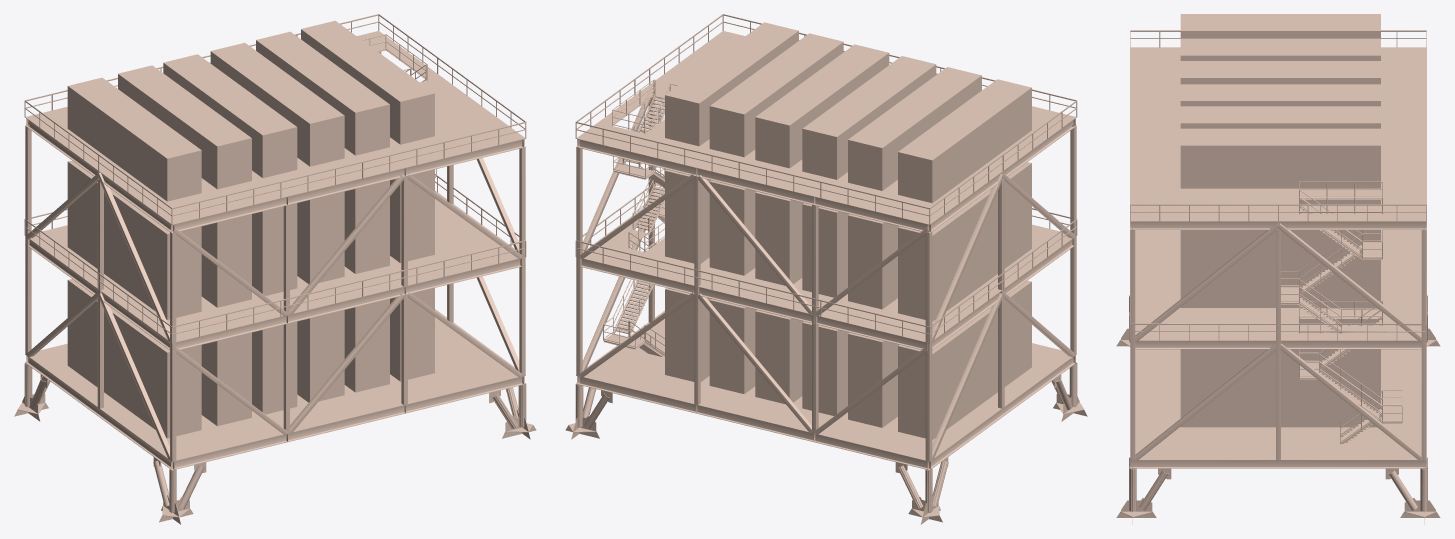
File: 04-Electrolyser-Standard-for-Instance.glb
3 views of the same model, side by side, from view 1: azimuth 30°, elevation 25°; view 2: azimuth 150°, elevation 25°; view 3: azimuth 270°, elevation 25° (orthographic).
Visible parts, largest first — view 1: ACPPSTRUCTUREBEAM.008; view 2: ACPPSTRUCTUREBEAM.008; view 3: ACPPSTRUCTUREBEAM.008.
Part boxes in pixels (x1,y1,x2,y2): ACPPSTRUCTUREBEAM.008: (14, 14, 536, 524); ACPPSTRUCTUREBEAM.008: (565, 14, 1087, 524); ACPPSTRUCTUREBEAM.008: (1116, 14, 1440, 524).
Size of the model in its own units: 26.7 by 22.86 by 19.7.
